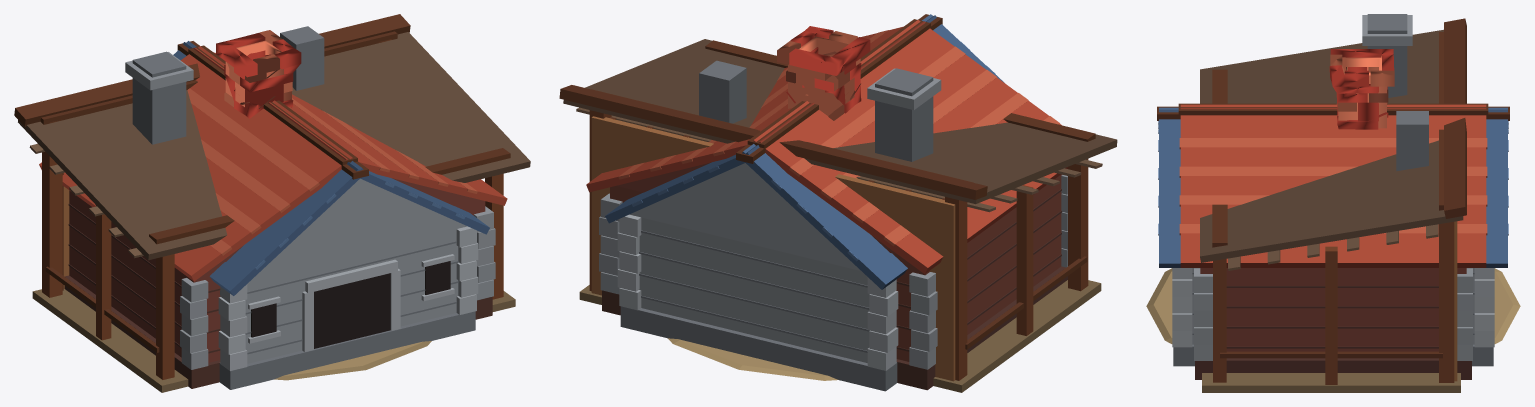
Rendered from kit_c2.glb.
The picture shows the model from 3 angles, left to right: view 1: azimuth 30°, elevation 25°; view 2: azimuth 150°, elevation 25°; view 3: azimuth 270°, elevation 25°; orthographic projection. The views are drawn at different scales.
Parts seen in each view (by area): view 1: c2_sawshed, c2_masonlodge, c2_smeltery, Furnace_Brick_0, c2_sawdust, Furnace_Brick Light_0, Furnace_Brick Tube_0; view 2: c2_masonlodge, c2_sawshed, c2_smeltery, Furnace_Brick_0, Furnace_Brick Tube_0, c2_sawdust, Furnace_Brick Light_0; view 3: c2_smeltery, c2_sawshed, c2_masonlodge, Furnace_Brick_0, c2_sawdust, Furnace_Brick Tube_0, Furnace_Brick Light_0.
Boxes of the visible parts, x1,y1,x2,y2 form: c2_sawshed: [14, 14, 530, 392]; c2_masonlodge: [173, 26, 489, 389]; c2_smeltery: [39, 45, 507, 388]; Furnace_Brick_0: [216, 33, 301, 118]; c2_sawdust: [274, 341, 431, 380]; Furnace_Brick Light_0: [224, 30, 292, 108]; Furnace_Brick Tube_0: [225, 40, 291, 107]; c2_masonlodge: [605, 14, 1004, 391]; c2_sawshed: [559, 39, 1117, 392]; c2_smeltery: [586, 19, 1067, 390]; Furnace_Brick_0: [786, 26, 870, 113]; Furnace_Brick Tube_0: [788, 36, 854, 115]; c2_sawdust: [668, 338, 837, 380]; Furnace_Brick Light_0: [777, 31, 860, 120]; c2_smeltery: [1178, 14, 1488, 379]; c2_sawshed: [1200, 18, 1466, 392]; c2_masonlodge: [1157, 106, 1509, 366]; Furnace_Brick_0: [1329, 49, 1394, 129]; c2_sawdust: [1146, 268, 1520, 343]; Furnace_Brick Tube_0: [1338, 55, 1386, 128]; Furnace_Brick Light_0: [1330, 54, 1394, 111].
Bounding box in the file's own units: 12.4 × 7.49 × 10.4.
